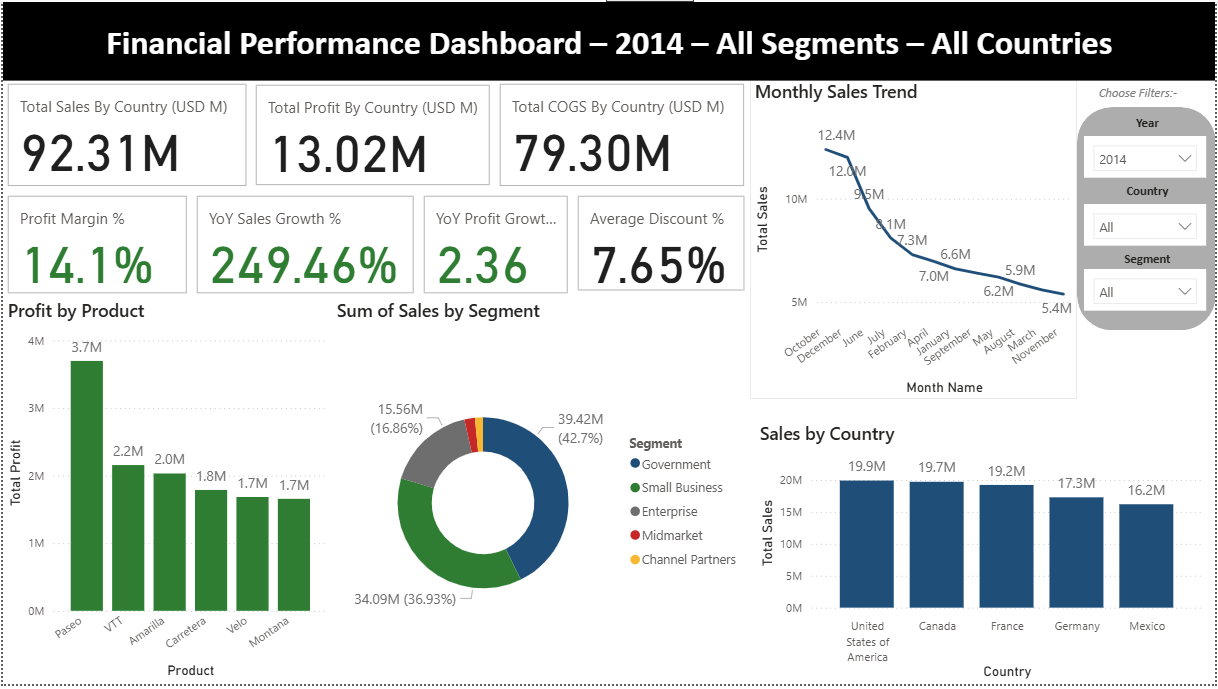

The dashboard page shown, as its layout file describes it:
{"tool":"powerbi","page":{"name":"Page 1","canvas":[1280,720],"ordinal":0},"visuals":[{"type":"shape","box":[1133.5,110.6,146.5,235.8],"z":0},{"type":"cardVisual","title":"Total Sales By Country (in USD M)","fields":{"Data":["financials.Total Sales"]},"box":[0,81,262.2,118.2],"z":1000},{"type":"cardVisual","fields":{"Data":["financials.Total Profit"]},"box":[262.2,82.2,257,116.9],"z":2000},{"type":"cardVisual","fields":{"Data":["financials.Total COGS"]},"box":[519.2,81,268.6,118.2],"z":3000},{"type":"clusteredColumnChart","title":"Sales by Country","fields":{"Category":["financials.Country"],"Y":["financials.Total Sales"]},"box":[793.8,442.2,478.2,277],"z":4000},{"type":"slicer","fields":{"Values":["DateTable.Year"]},"box":[1141.5,141.2,129.2,44],"z":5000},{"type":"lineChart","title":"Monthly Sales Trend","fields":{"Category":["financials.Month Name"],"Y":["financials.Total Sales"]},"box":[788.5,81.2,345,338.3],"z":6000},{"type":"clusteredColumnChart","title":"Profit by Product","fields":{"Category":["financials.Product"],"Y":["financials.Total Profit"]},"box":[0,313,347.6,406.2],"z":7000},{"type":"slicer","fields":{"Values":["financials.Segment"]},"box":[1141.5,213.1,129.2,44],"z":8000},{"type":"slicer","fields":{"Values":["financials.Country"]},"box":[1141.5,282.4,129.2,44],"z":9000},{"type":"cardVisual","fields":{"Data":["financials.Profit Margin %"]},"box":[0,199.8,199.8,113.2],"z":10000},{"type":"cardVisual","fields":{"Data":["financials.YoY Sales Growth %"]},"box":[199.8,199.8,239.8,113.2],"z":11000},{"type":"cardVisual","fields":{"Data":["financials.YoY Profit Growth %"]},"box":[439.5,199.8,162.5,113.2],"z":12000},{"type":"donutChart","fields":{"Y":["Sum(financials. Sales)"],"Category":["financials.Segment"]},"box":[347.6,313,440.9,407.6],"z":13000},{"type":"cardVisual","fields":{"Data":["financials.Average Discount %"]},"box":[602,199.8,186.5,110.6],"z":14000},{"type":"card","fields":{"Values":["financials.Dashboard Title"]},"box":[0,0,1280,82.6],"z":15000},{"type":"textbox","box":[1170.8,113.2,74.6,28],"z":16000},{"type":"textbox","box":[1166.9,254.5,74.5,33.4],"z":17000},{"type":"textbox","box":[1166.9,185.1,74.5,33.4],"z":18000},{"type":"textbox","box":[1152.1,81.2,105.2,29.3],"z":19000}]}

Visuals, with their boxes in screenshot pixels (x1, y1, x2, y2), scaled from the page's 1280x720 canvas onto the 1218x689 screenshot:
shape: crop(1079, 106, 1217, 331)
"Total Sales By Country (in USD M)" cardVisual: crop(0, 78, 249, 191)
cardVisual - financials.Total Profit: crop(249, 79, 494, 191)
cardVisual - financials.Total COGS: crop(494, 78, 750, 191)
"Sales by Country" clusteredColumnChart: crop(755, 423, 1210, 688)
slicer - DateTable.Year: crop(1086, 135, 1209, 177)
"Monthly Sales Trend" lineChart: crop(750, 78, 1079, 401)
"Profit by Product" clusteredColumnChart: crop(0, 300, 331, 688)
slicer - financials.Segment: crop(1086, 204, 1209, 246)
slicer - financials.Country: crop(1086, 270, 1209, 312)
cardVisual - financials.Profit Margin %: crop(0, 191, 190, 300)
cardVisual - financials.YoY Sales Growth %: crop(190, 191, 418, 300)
cardVisual - financials.YoY Profit Growth %: crop(418, 191, 573, 300)
donutChart - Sum(financials. Sales) x financials.Segment: crop(331, 300, 750, 688)
cardVisual - financials.Average Discount %: crop(573, 191, 750, 297)
card - financials.Dashboard Title: crop(0, 0, 1217, 79)
textbox: crop(1114, 108, 1185, 135)
textbox: crop(1110, 244, 1181, 276)
textbox: crop(1110, 177, 1181, 209)
textbox: crop(1096, 78, 1196, 106)
